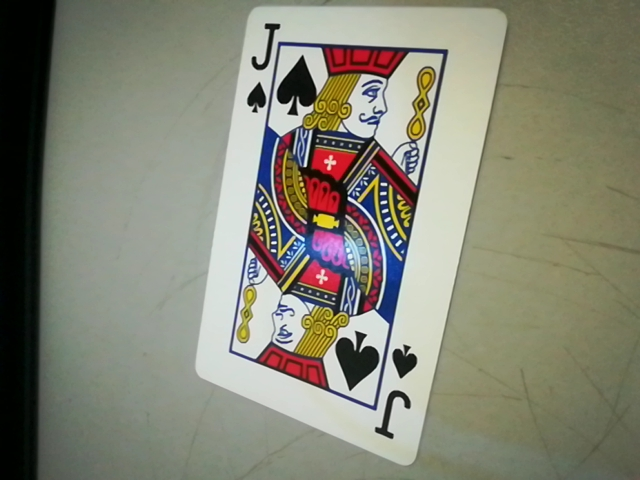ht j: (370, 337, 424, 449)
